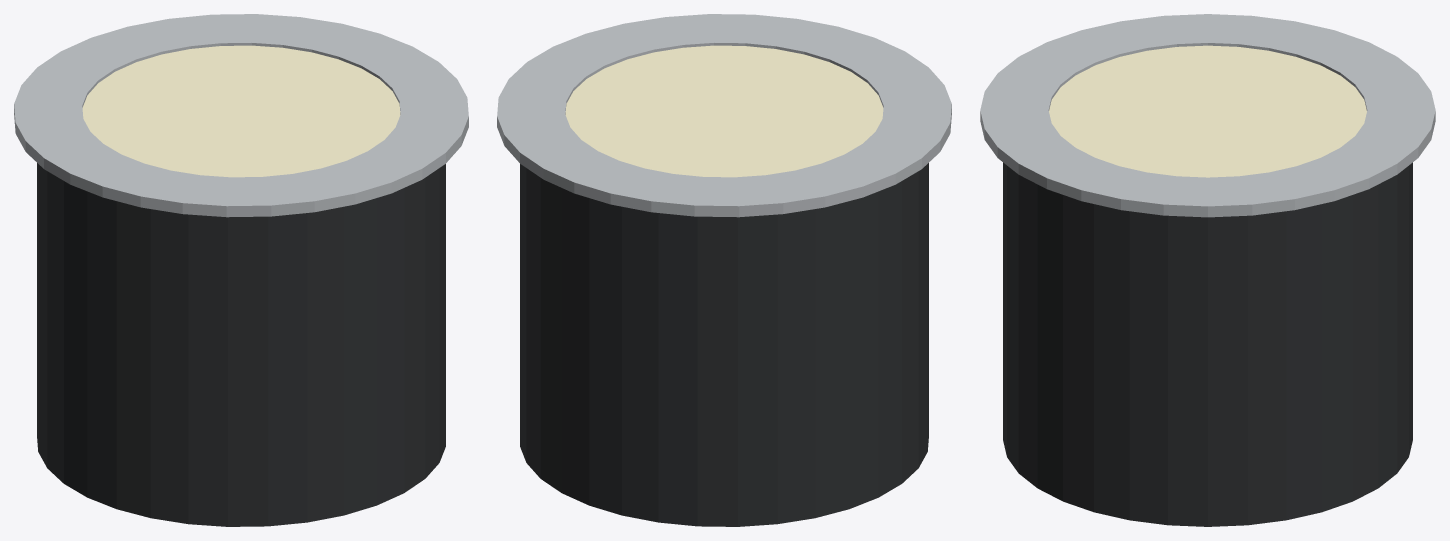
3 views of the same model, side by side, from view 1: azimuth 30°, elevation 25°; view 2: azimuth 150°, elevation 25°; view 3: azimuth 270°, elevation 25° (orthographic).
Visible parts, largest first — view 1: baseOffset=-0.12;diameter=0.15;height=0.12;material=luminair (×3); view 2: baseOffset=-0.12;diameter=0.15;height=0.12;material=luminair (×3); view 3: baseOffset=-0.12;diameter=0.15;height=0.12;material=luminair (×3).
Part boxes in pixels (x1,y1,x2,y2): baseOffset=-0.12;diameter=0.15;height=0.12;material=luminair (×3): (14, 14, 468, 526); baseOffset=-0.12;diameter=0.15;height=0.12;material=luminair (×3): (497, 14, 951, 526); baseOffset=-0.12;diameter=0.15;height=0.12;material=luminair (×3): (980, 14, 1435, 526).
Size of the model in its own units: 0.15 by 0.15 by 0.12.
